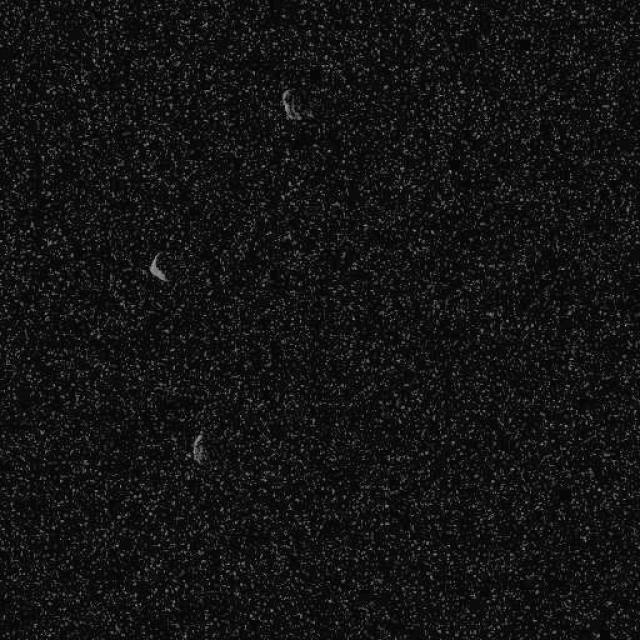D2: (146, 250, 170, 282), (280, 88, 302, 121), (190, 430, 206, 464)
